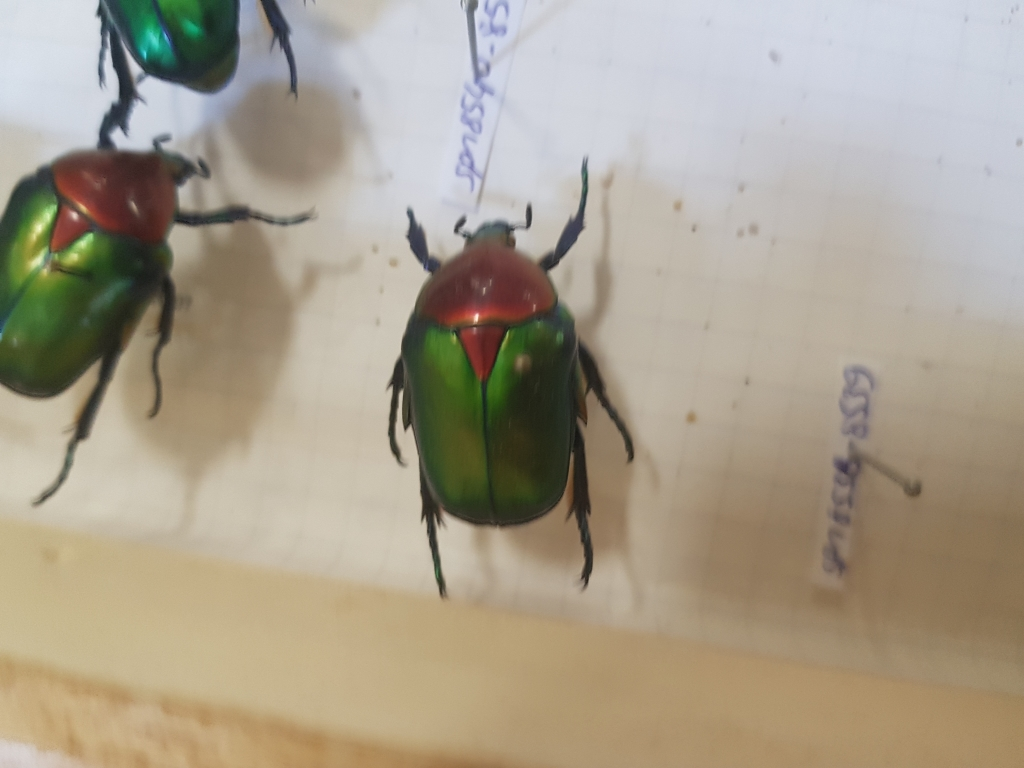Protaetia_speciosa_jousseliniw: (356, 148, 632, 603)
